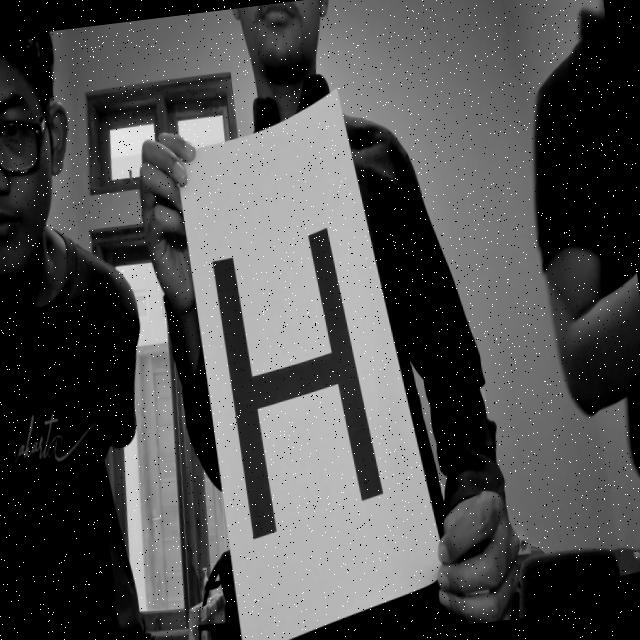h: (202, 217, 392, 539)
